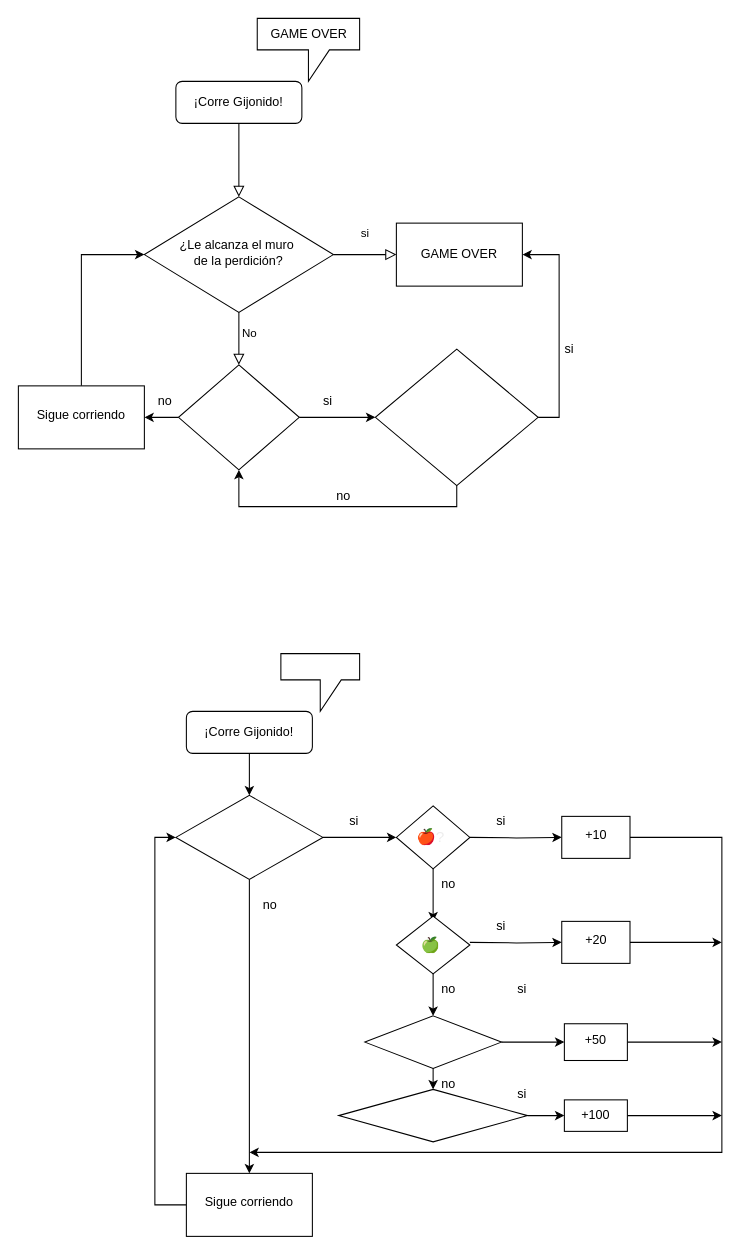
This 749x1255 diagram has some shape labels left out. Each missing label, with the centre of its shape:
"Billete Jovellanos?" goes at (x=433, y=1115).
"minicachopo?" goes at (x=432, y=1041).
"Puntos" goes at (x=320, y=682).
"Velocidad < muro de la perdición" goes at (x=456, y=417).
"¿Toca algún obstáculo?" goes at (x=238, y=417).
"¿Toca algún premio?" goes at (x=249, y=836).
